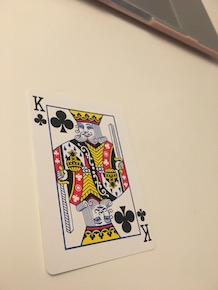KingOfClubs: (23, 88, 168, 277)
